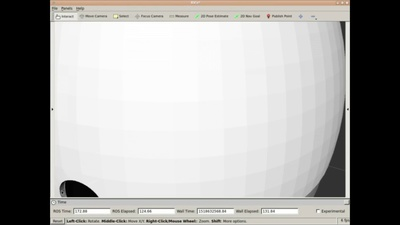mira_robot: (56, 23, 345, 197)
